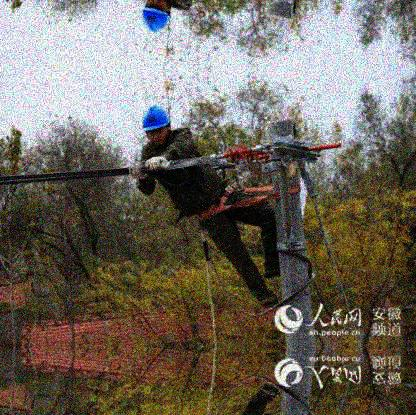helmet: (140, 103, 171, 145), (140, 1, 172, 34)
